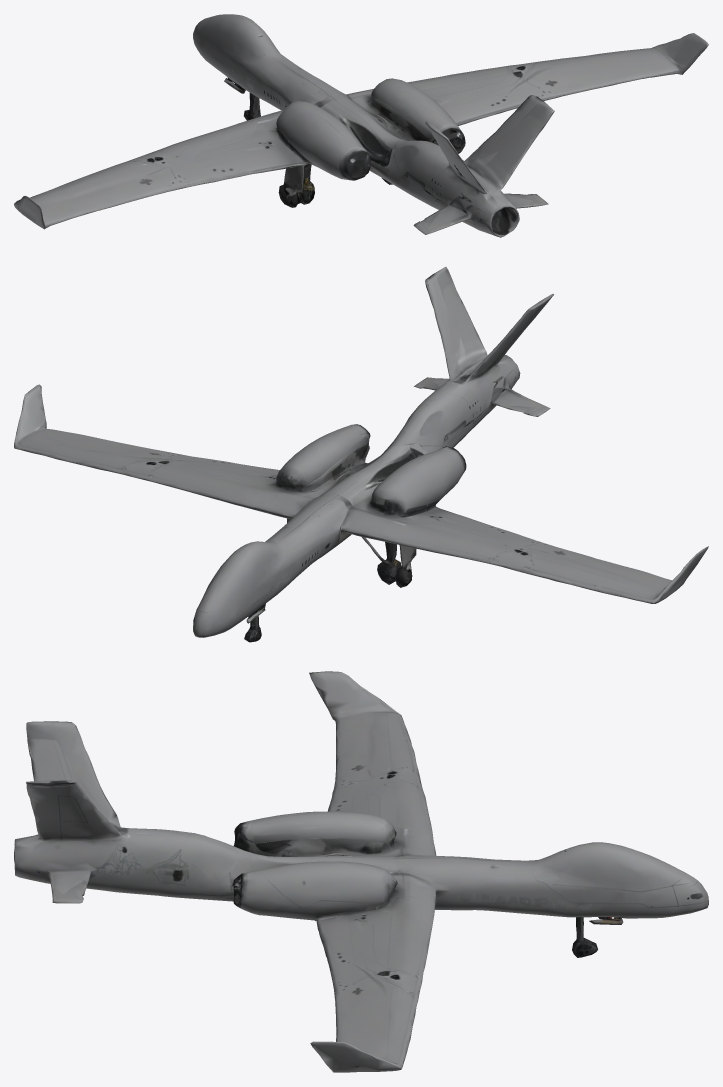
The model's file is DRONE.glb.
3 renders of one model, top to bottom at view 1: azimuth 30°, elevation 25°; view 2: azimuth 150°, elevation 25°; view 3: azimuth 270°, elevation 25°, orthographic. The views are drawn at different scales.
Size of the model in its own units: 1.99 by 0.5177 by 1.58.
1 material, 1 textured.
